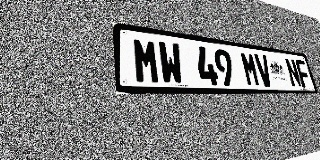4: (195, 46, 219, 85)
9: (213, 48, 236, 86)
F: (294, 59, 312, 88)
M: (132, 37, 161, 84), (240, 52, 261, 86)
N: (284, 58, 302, 87)
V: (254, 54, 274, 87)
W: (157, 41, 185, 85)
